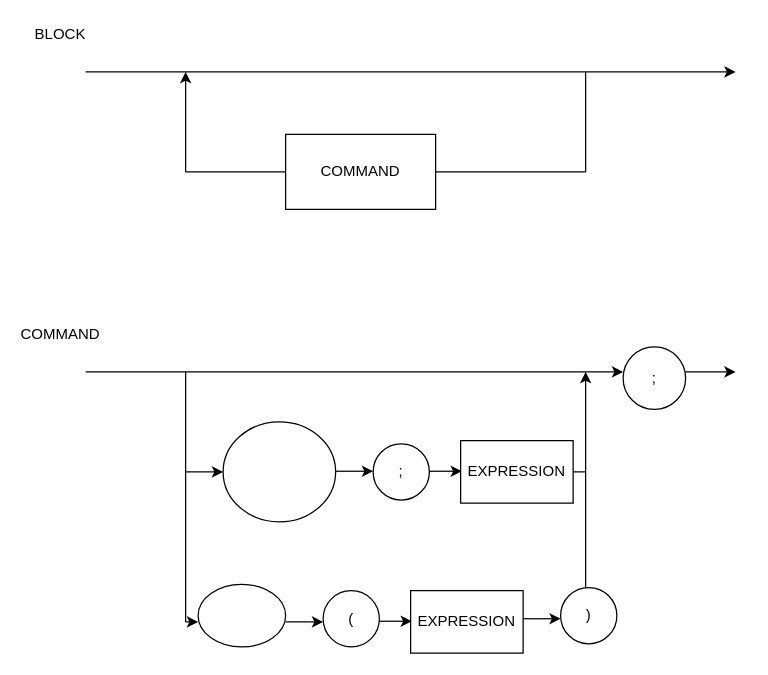
Image size: 768x675. Some labels were removed from this diagram. The centre of each missing label's shape, as x and y in pixels:
IDENTIFIER: the point at 279,471
PRINTLN: the point at 241,615
